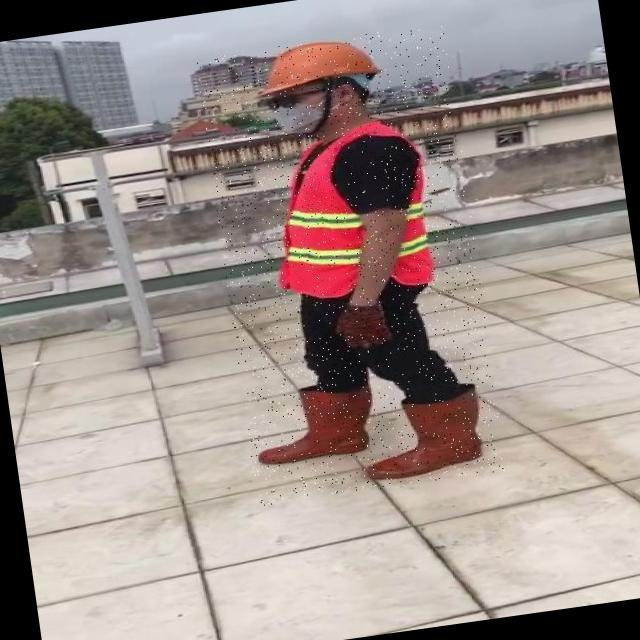boots: (357, 389, 491, 482), (251, 378, 378, 466)
helmet: (247, 32, 386, 99)
vest: (265, 118, 437, 303)
